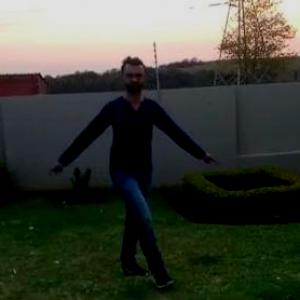land: (74, 66, 194, 242)
